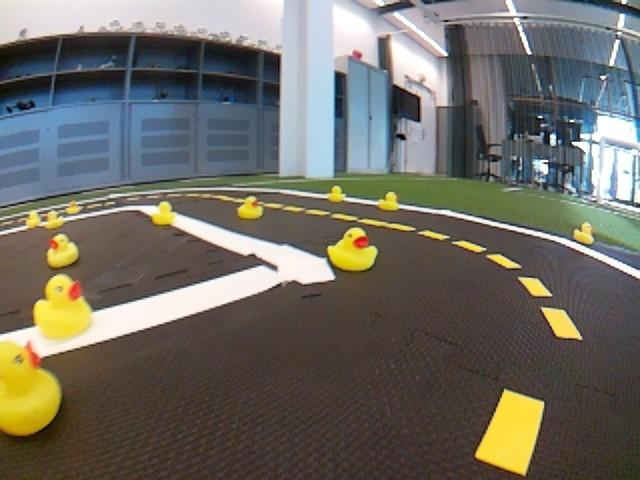Duckies: (0, 340, 61, 435), (34, 273, 92, 339), (326, 227, 378, 272), (46, 233, 79, 268), (236, 196, 262, 220), (150, 201, 175, 225), (573, 222, 595, 245), (376, 190, 399, 211), (44, 209, 64, 229), (326, 185, 346, 202), (25, 210, 41, 227), (65, 202, 81, 213)
